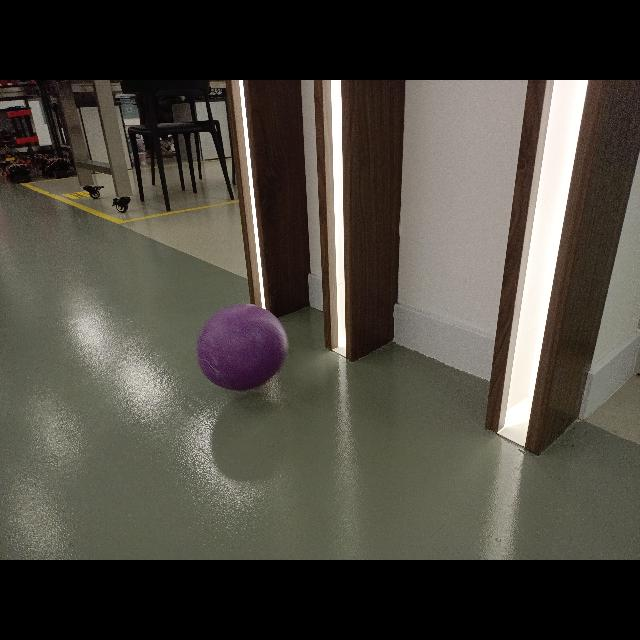P: (198, 303, 288, 391)
